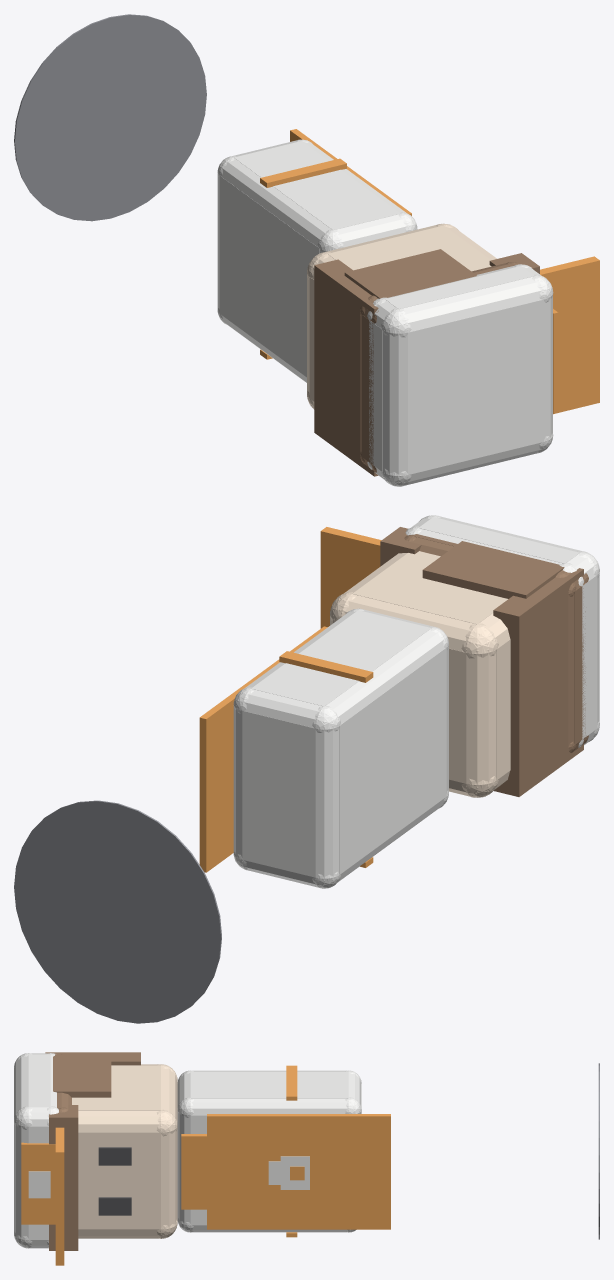
Rendered from person.glb.
The picture shows the model from 3 angles, top to bottom: view 1: azimuth 30°, elevation 25°; view 2: azimuth 150°, elevation 25°; view 3: azimuth 270°, elevation 25°; orthographic projection. The views are drawn at different scales.
Visible parts, largest first — view 1: shadow_visual, cap_z_visual, torso_x_visual, hair_back_visual, cap_brim_visual, torso_y_visual, cap_edge3_visual, cap_edge5_visual, hair_side_left_visual, head_y_visual, torso_edge9_visual, cap_x_visual (+9 smaller); view 2: shadow_visual, torso_x_visual, hair_back_visual, torso_z_visual, torso_y_visual, apron_visual, hair_side_left_visual, head_y_visual, head_edge4_visual, torso_edge4_visual, cap_brim_visual, torso_edge9_visual (+15 smaller); view 3: apron_visual, head_x_visual, torso_y_visual, head_y_visual, hair_fringe_visual, torso_edge11_visual, hair_side_left_visual, apron_bib_visual, cap_front_visual, head_edge11_visual, head_edge6_visual, cap_brim_visual (+21 smaller).
Part boxes in pixels (x1,y1,x2,y2): shadow_visual: (14,14,206,221); cap_z_visual: (408,299,543,474); torso_x_visual: (219,176,319,377); hair_back_visual: (314,259,378,476); cap_brim_visual: (540,256,599,412); torso_y_visual: (234,141,400,230); cap_edge3_visual: (381,275,553,336); cap_edge5_visual: (382,308,408,486); hair_side_left_visual: (344,249,476,298); head_y_visual: (328,225,491,271); torso_edge9_visual: (217,156,344,251); cap_x_visual: (369,320,382,471); shadow_visual: (14,800,221,1023); torso_x_visual: (339,648,446,874); hair_back_visual: (493,568,583,796); torso_z_visual: (242,711,315,877); torso_y_visual: (251,610,431,706); apron_visual: (199,626,327,872); hair_side_left_visual: (422,541,564,598); head_y_visual: (352,551,507,624); head_edge4_visual: (465,623,496,797); torso_edge4_visual: (315,706,339,888); cap_brim_visual: (320,527,381,628); torso_edge9_visual: (312,627,448,732); apron_visual: (207,1114,390,1229); head_x_visual: (78,1132,160,1229); torso_y_visual: (190,1071,348,1098); head_y_visual: (72,1065,160,1110); hair_fringe_visual: (49,1105,78,1250); torso_edge11_visual: (177,1098,361,1115); hair_side_left_visual: (53,1054,111,1097); apron_bib_visual: (181,1134,225,1209); cap_front_visual: (21,1142,55,1224); head_edge11_visual: (78,1110,177,1133); head_edge6_visual: (157,1109,177,1238); cap_brim_visual: (55,1127,64,1265).
Size of the model in its own units: 0.61 by 0.48 by 1.59.
